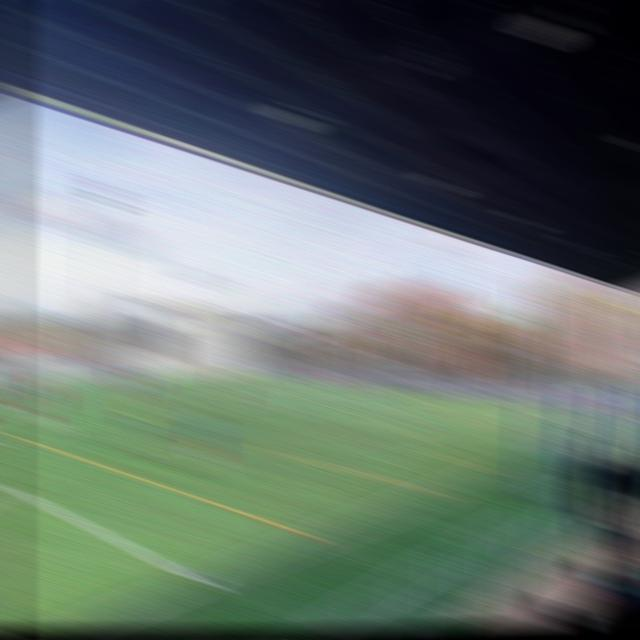bigarea_bottom_inner: (430, 409, 455, 429)
bigarea_bottom_outter: (506, 396, 534, 415)
bigarea_top_inner: (159, 377, 182, 395)
halfcircle_bottom: (314, 396, 340, 413)
midline_bottom_intersection: (174, 560, 220, 605)
smallarea_bottom_inner: (391, 393, 421, 407)
smallarea_bottom_outter: (417, 392, 441, 403)
smallarea_top_inner: (278, 385, 303, 395)
